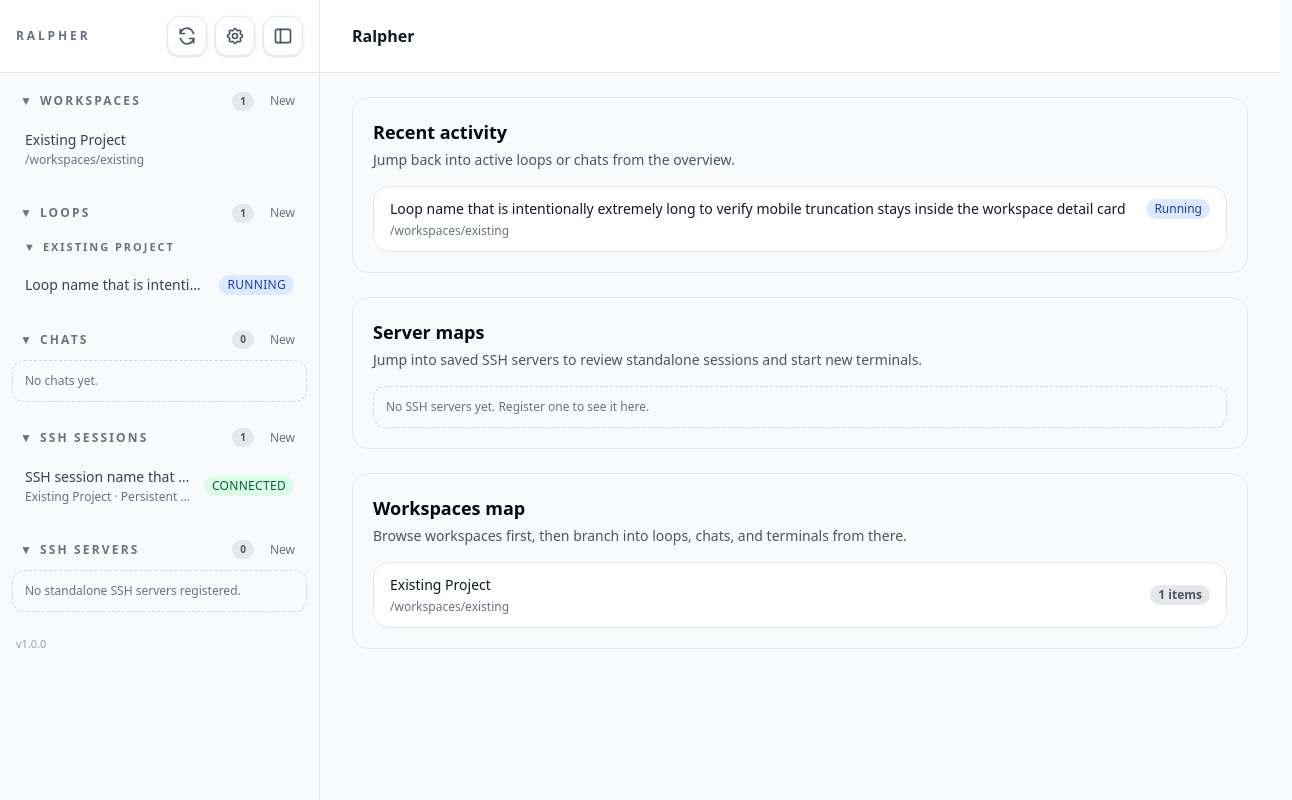
Test: workspace management scenario › workspace detail rows keep long loop and session names shrinkable on mobile
The width and height of the screenshot is (1292, 800).
Click the 1st text "Existing Project".
click(75, 140)  # box x1=25 y1=130 x2=126 y2=149
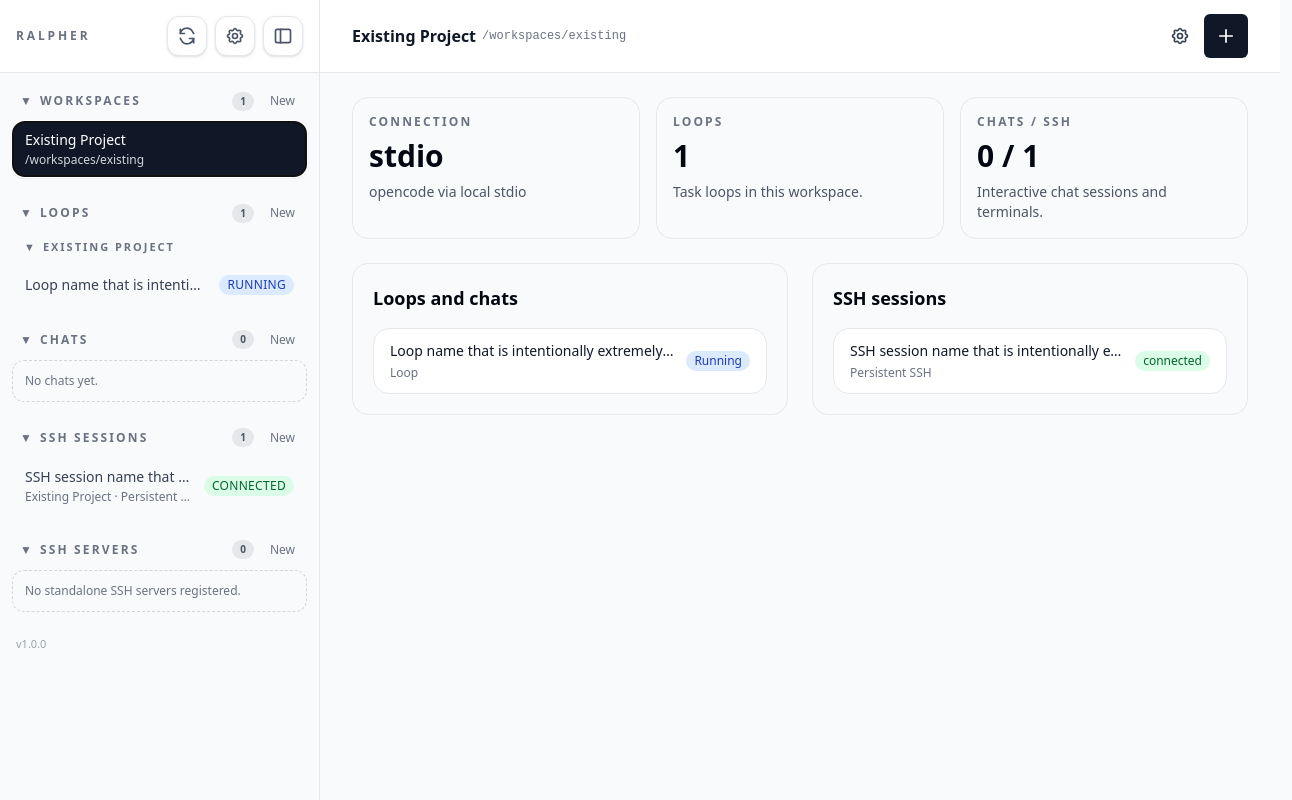
Expected: the heading "Existing Project" is shown, x1=352 y1=24 x2=476 y2=48
Expected: the text with class "shrink-0" is shown, x1=1135 y1=351 x2=1210 y2=371
